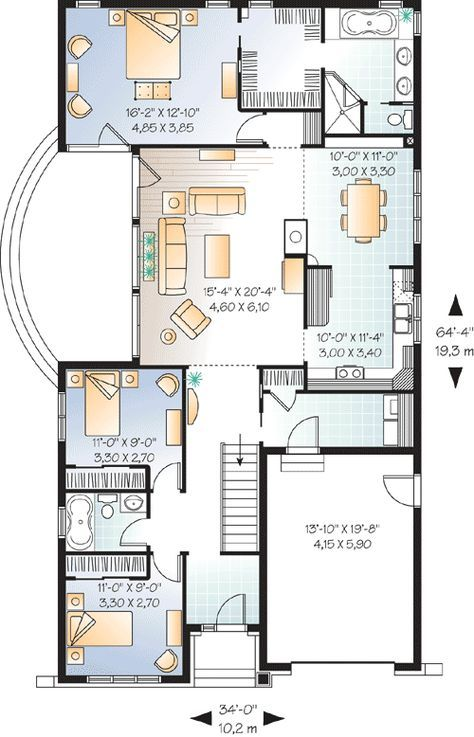door: (376, 471, 412, 508), (282, 413, 320, 445), (212, 591, 249, 622), (229, 112, 263, 144), (151, 555, 182, 583), (118, 516, 145, 547), (151, 460, 180, 487)
room: (133, 143, 424, 368), (57, 1, 324, 147), (57, 362, 186, 493), (58, 551, 187, 682), (319, 1, 421, 149), (58, 489, 151, 555)
window: (87, 674, 162, 684), (130, 293, 140, 357), (411, 292, 423, 342), (56, 391, 66, 442), (57, 506, 66, 538), (76, 1, 100, 8), (378, 1, 402, 8), (206, 1, 230, 7), (248, 1, 272, 7)
